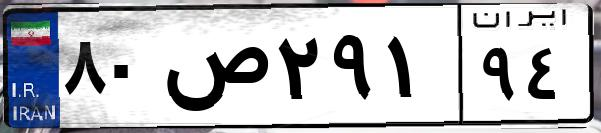0: (110, 28, 158, 98)
1: (385, 28, 445, 110)
2: (270, 28, 330, 110)
4: (525, 38, 570, 115)
8: (57, 26, 110, 100)
9: (330, 28, 385, 110), (475, 38, 525, 113)
ص: (158, 20, 270, 120)
